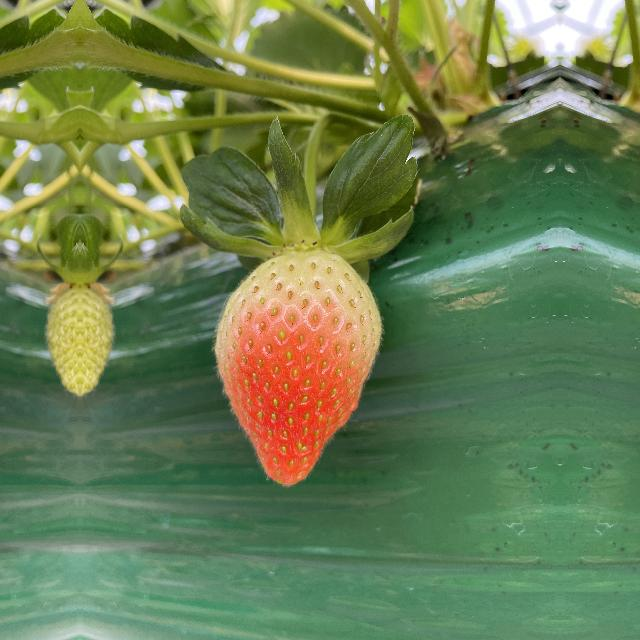Health_75: (206, 234, 384, 486)
